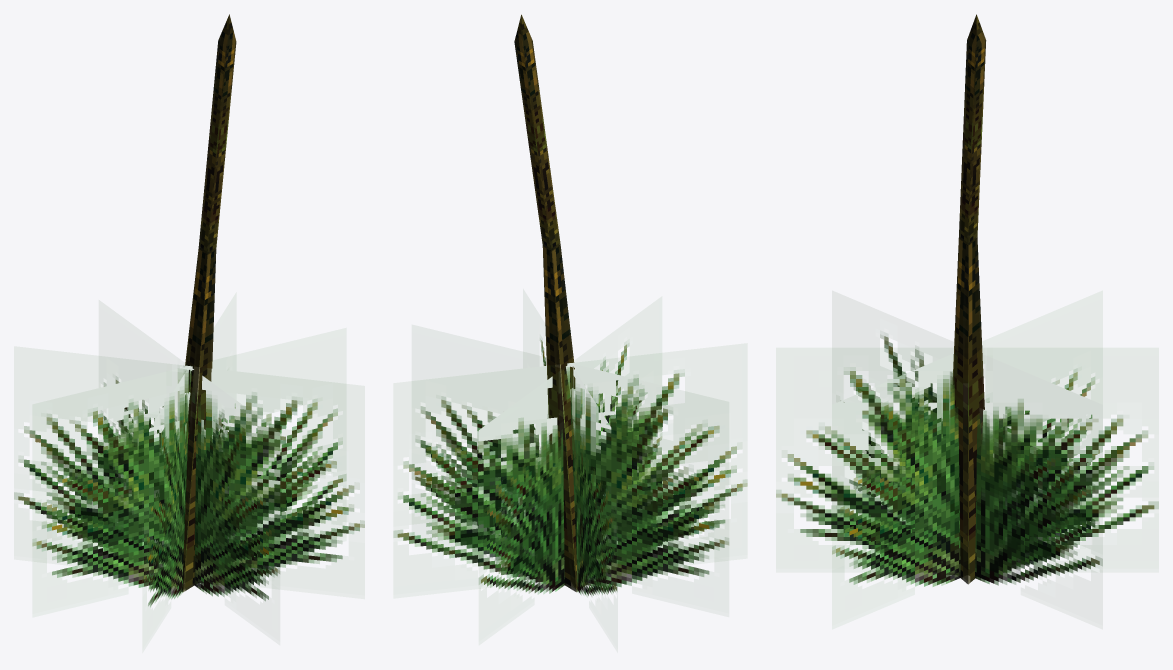
File: Environment - Debris and Ruins - Rubble Mound - Debris - PMYaka.glb
The picture shows the model from 3 angles, left to right: view 1: azimuth 30°, elevation 25°; view 2: azimuth 150°, elevation 25°; view 3: azimuth 270°, elevation 25°; orthographic projection. The views are drawn at different scales.
Visible parts, largest first — view 1: PMYAKA; view 2: PMYAKA; view 3: PMYAKA.
Part boxes in pixels (bbox=[...]): PMYAKA: bbox=[14, 14, 364, 607]; PMYAKA: bbox=[393, 14, 747, 596]; PMYAKA: bbox=[776, 14, 1158, 586].
Size of the model in its own units: 10.94 by 18.45 by 10.94.
Materials: 1 (1 with a texture image).
